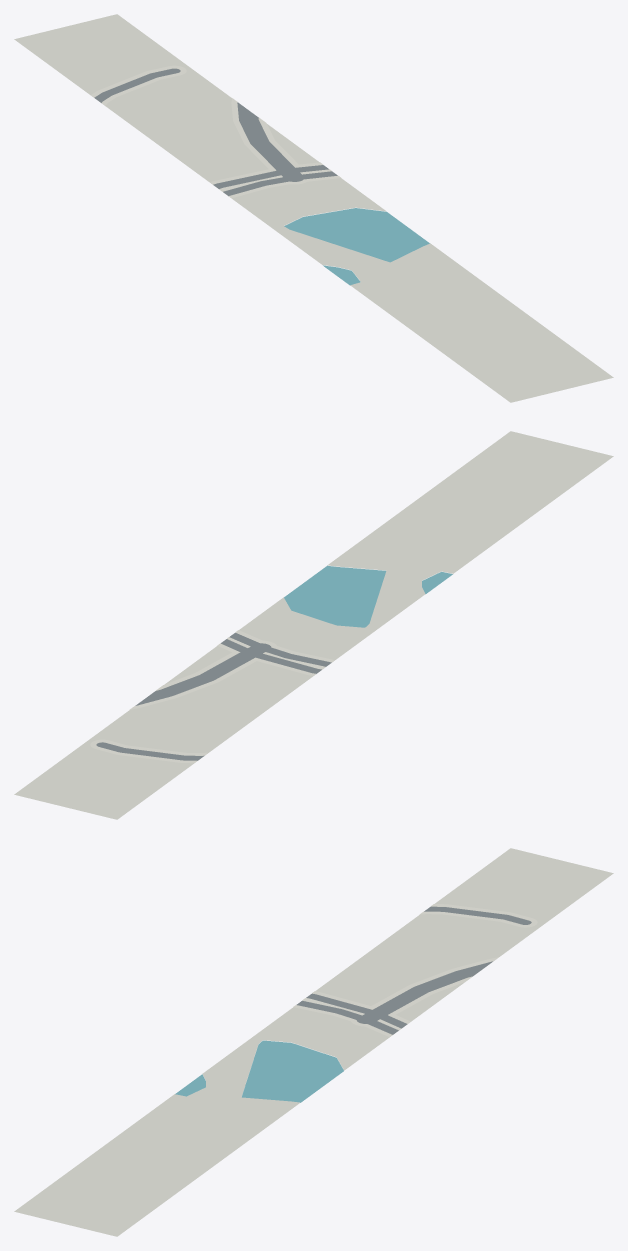
The picture shows the model from 3 angles, top to bottom: view 1: azimuth 30°, elevation 25°; view 2: azimuth 150°, elevation 25°; view 3: azimuth 330°, elevation 25°; orthographic projection.
Parts seen in each view (by area): view 1: city; view 2: city; view 3: city.
Boxes of the visible parts, bbox=[...] form: city: bbox=[14, 14, 613, 402]; city: bbox=[14, 431, 613, 819]; city: bbox=[14, 848, 613, 1236].
Size of the model in its own units: 60 by 0.4 by 500.
